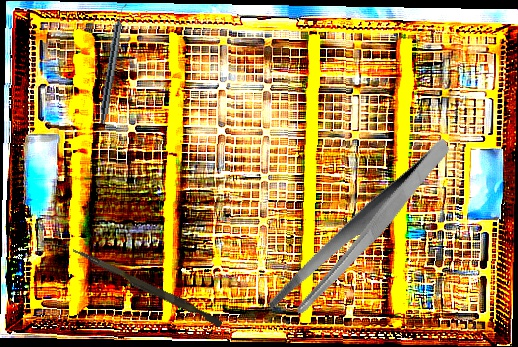Dressing Forceps: (239, 137, 485, 326)
Handpiece: (98, 2, 128, 125)
Pusher: (69, 247, 225, 328)
